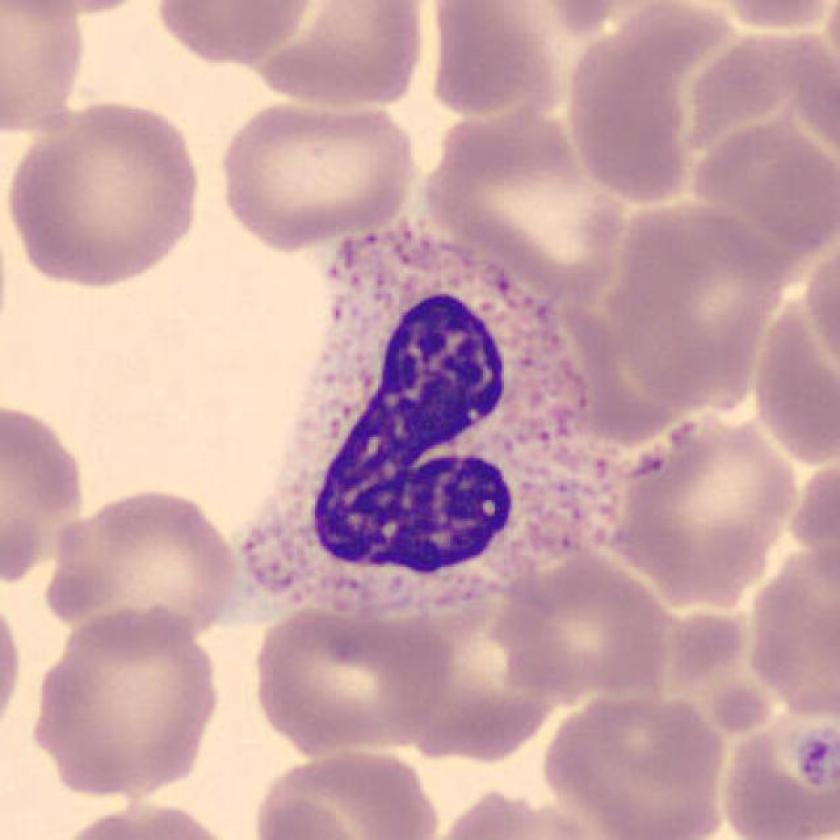neutrophil: (245, 235, 617, 627)
